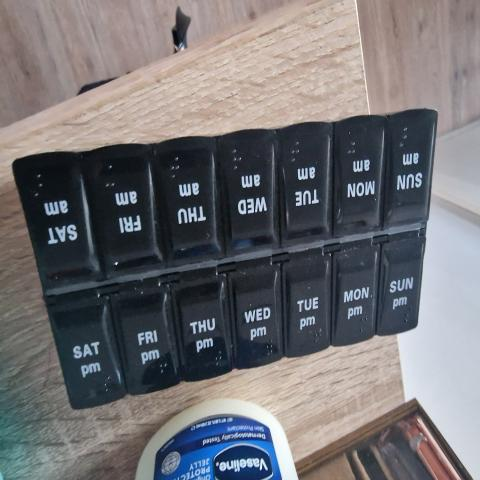PillBox: (7, 98, 458, 409)
